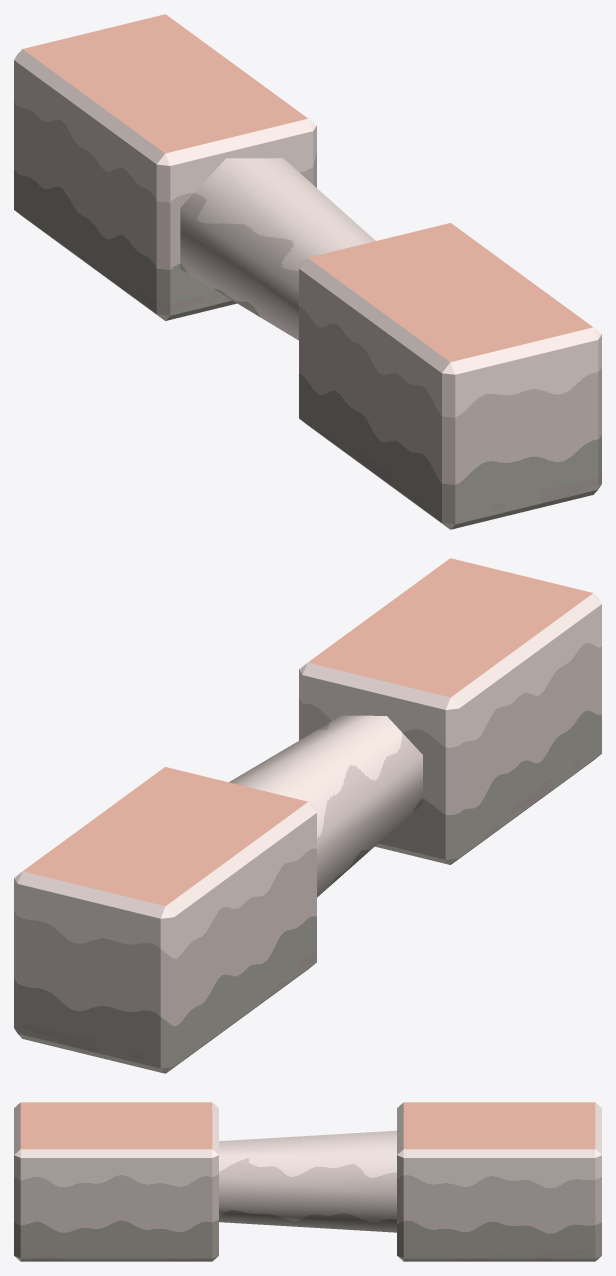
The model's file is R4C_ROD_SHORT_LOD1.glb.
3 renders of one model, top to bottom at view 1: azimuth 30°, elevation 25°; view 2: azimuth 150°, elevation 25°; view 3: azimuth 270°, elevation 25°, orthographic. The views are drawn at different scales.
Visible parts, largest first — view 1: R4C_ROD_SHORT_LOD1; view 2: R4C_ROD_SHORT_LOD1; view 3: R4C_ROD_SHORT_LOD1.
Part boxes in pixels (x1,y1,x2,y2): R4C_ROD_SHORT_LOD1: [14, 14, 601, 529]; R4C_ROD_SHORT_LOD1: [14, 558, 601, 1073]; R4C_ROD_SHORT_LOD1: [14, 1102, 601, 1261].
Size of the model in its own units: 0.226 by 0.226 by 1.07.
Materials: 3 (3 with a texture image).
